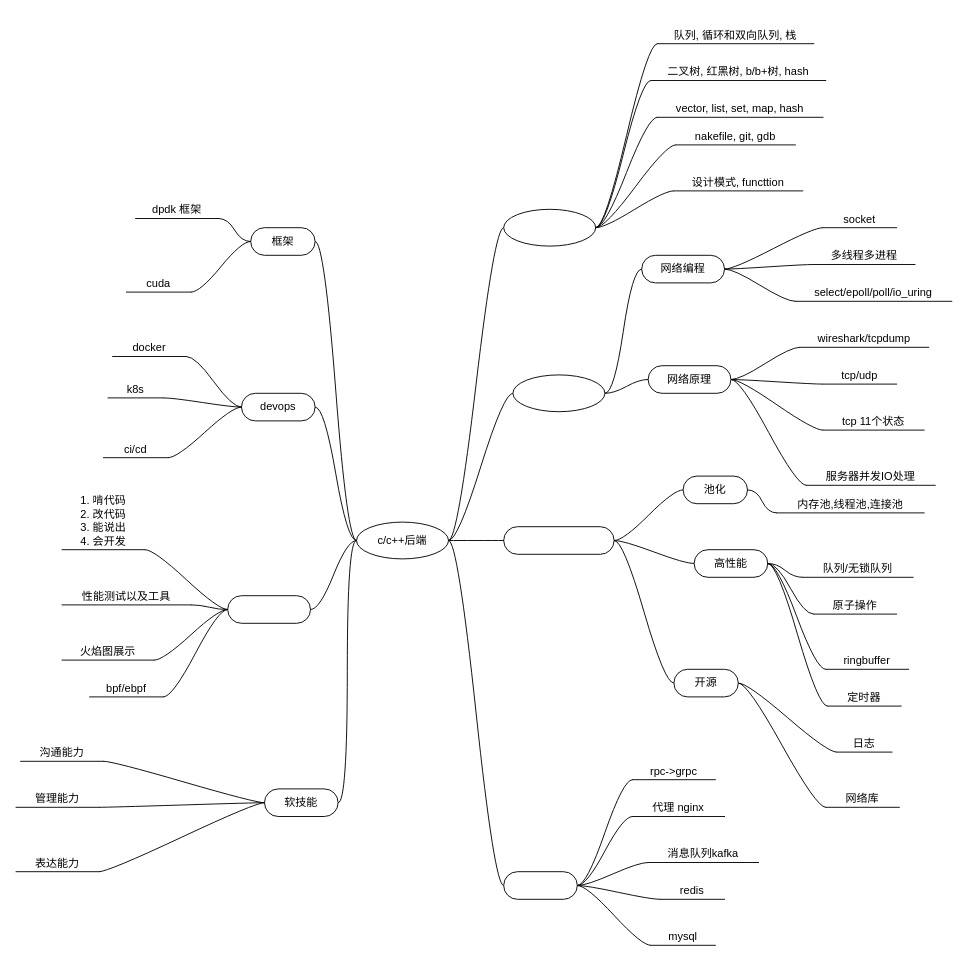
Image size: 968x961. Some labels were removed from this diagram. The box of each missing label's shape, as (x1, y1, x2, y2) in pixels:
c/c++: (503, 208, 596, 246)
中间件: (503, 871, 577, 899)
基础组件(轮子): (503, 526, 614, 554)
性能调优: (227, 595, 310, 623)
网络: (512, 374, 605, 412)
